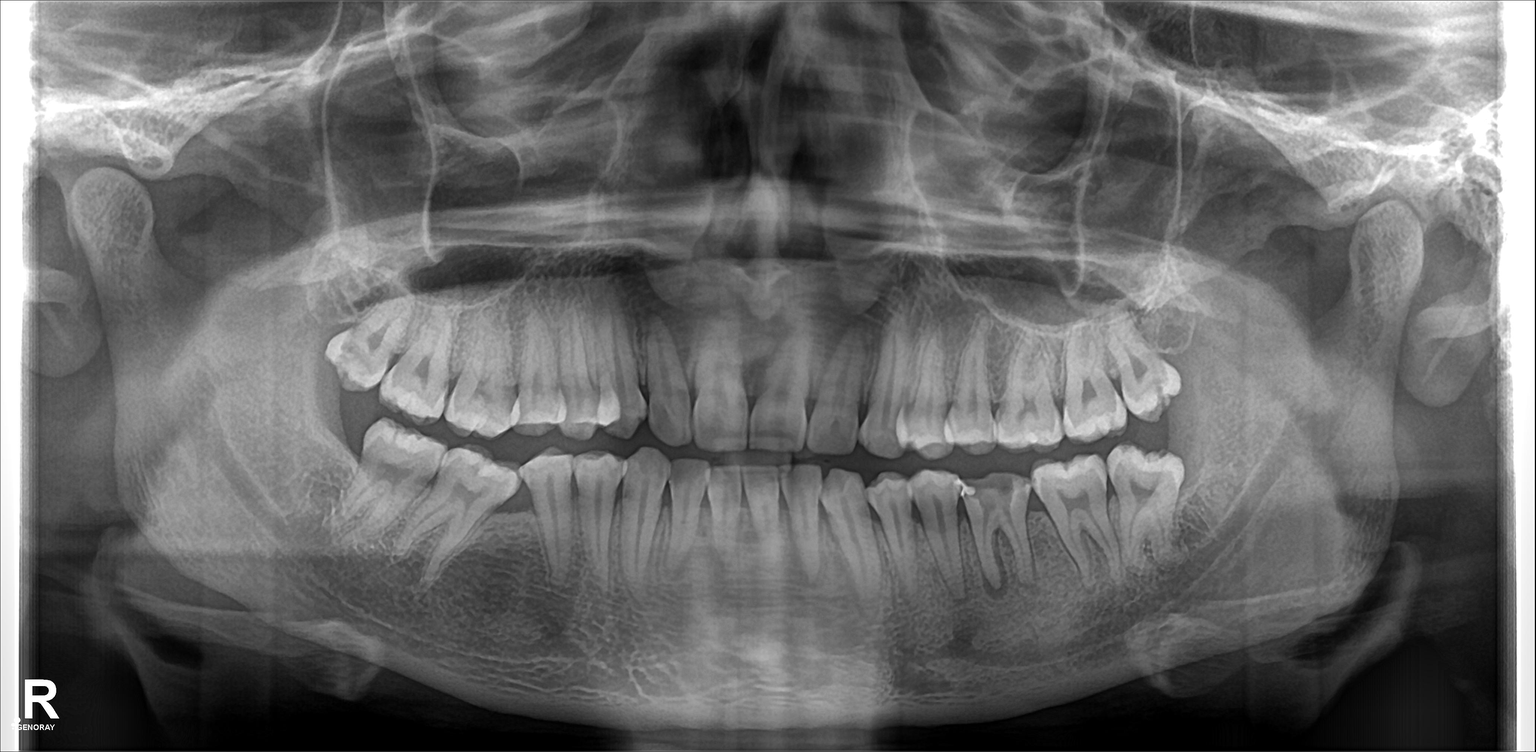Missing Tooth: (305, 404, 358, 506)
